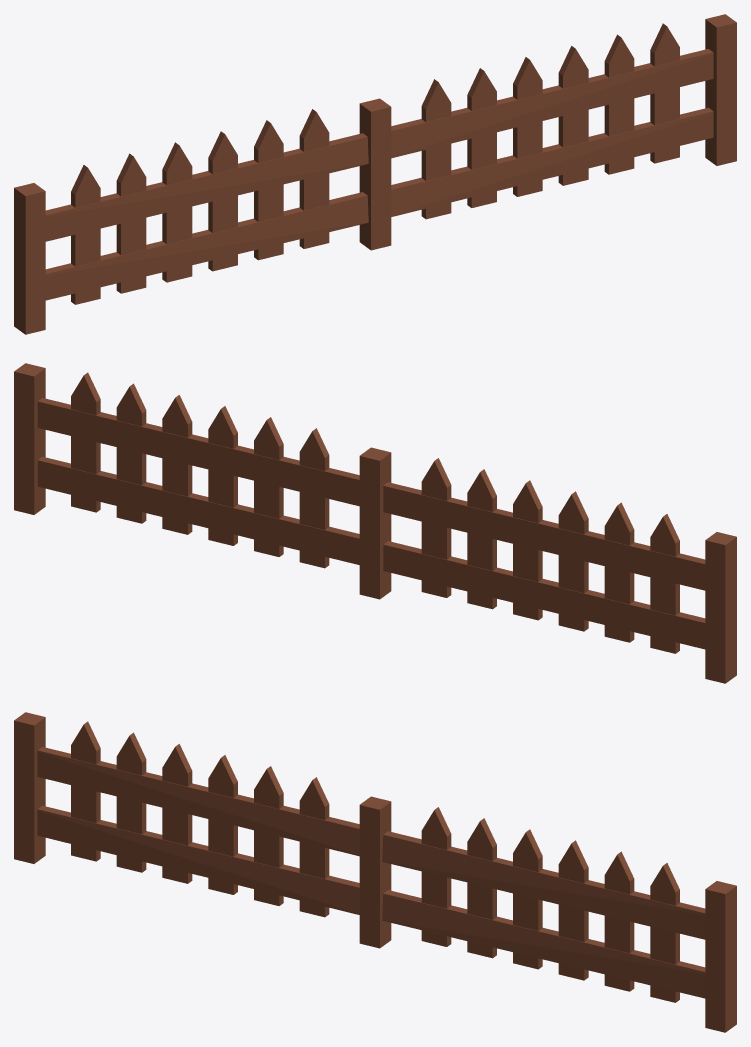
The model's file is fence2.glb.
The picture shows the model from 3 angles, top to bottom: view 1: azimuth 30°, elevation 25°; view 2: azimuth 150°, elevation 25°; view 3: azimuth 330°, elevation 25°; orthographic projection.
Parts seen in each view (by area): view 1: Fence2_Cube.024; view 2: Fence2_Cube.024; view 3: Fence2_Cube.024.
Boxes of the visible parts, x1=… form: Fence2_Cube.024: x1=14, y1=14, x2=736, y2=334; Fence2_Cube.024: x1=14, y1=363, x2=736, y2=683; Fence2_Cube.024: x1=14, y1=712, x2=736, y2=1032.
Size of the model in its own units: 5.89 by 1.17 by 0.1654.
